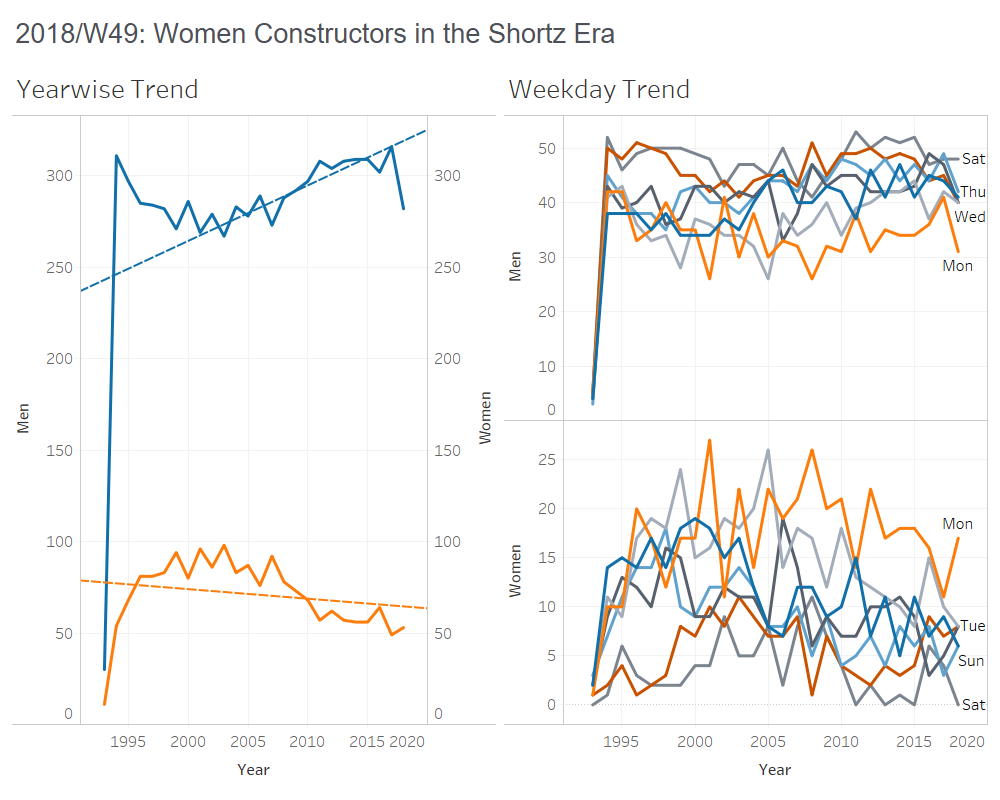

What the dashboard file says about the page in this screenshot:
{"tool":"tableau","page":{"name":"Makeover Monday 2018/W49","canvas":[1000,800],"ordinal":0},"visuals":[{"type":"text","box":[8,8,984,53]},{"type":"worksheet","title":"Yearwise Trend","mark":"Automatic","rows":["Men","Women"],"cols":["Year"],"box":[8,61,492,731]},{"type":"worksheet","title":"Weekday Trend","mark":"Automatic","rows":["Men","Women"],"cols":["Year"],"box":[500,61,492,731]}]}

Visuals, with their boxes in screenshot pixels (x1, y1, x2, y2), scaled from the page's 1000x800 canvas onto the 1000x800 screenshot:
text: {"left": 8, "top": 8, "right": 992, "bottom": 61}
"Yearwise Trend" worksheet: {"left": 8, "top": 61, "right": 500, "bottom": 792}
"Weekday Trend" worksheet: {"left": 500, "top": 61, "right": 992, "bottom": 792}
